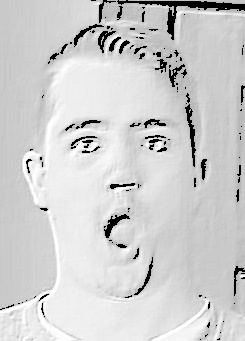nose_M_C: (103, 144, 142, 202)
